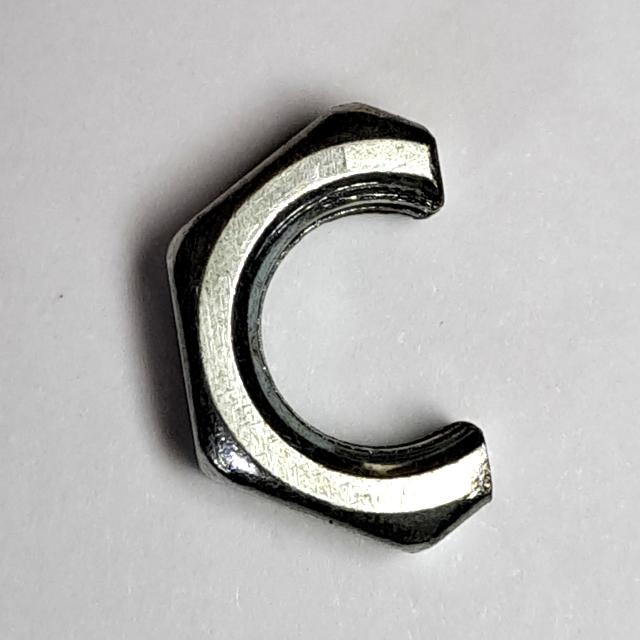Fracture: (153, 87, 522, 572)
